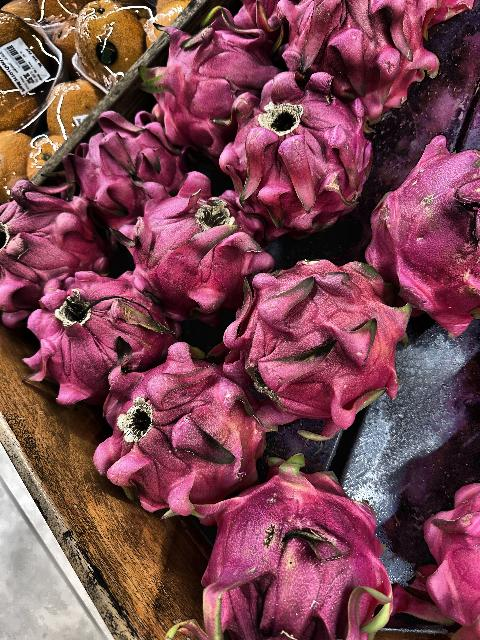buah-naga-matang: (229, 252, 429, 436), (192, 468, 391, 640), (102, 341, 272, 515), (366, 124, 480, 328), (128, 176, 284, 314), (221, 84, 365, 228), (29, 278, 182, 402), (276, 0, 442, 110), (149, 11, 277, 127), (0, 187, 116, 313), (62, 121, 182, 207)
